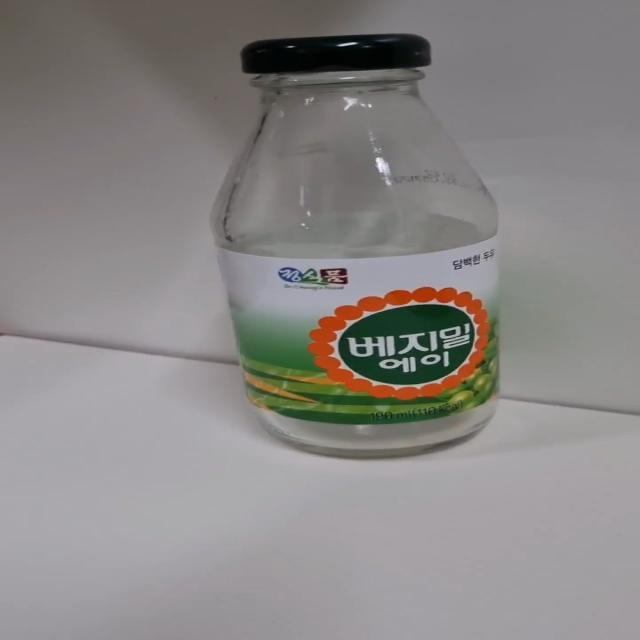Glass: (208, 32, 501, 463)
